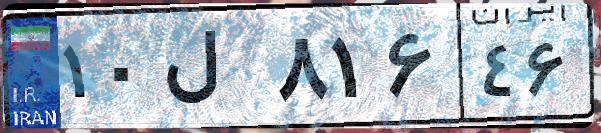0: (110, 28, 158, 98)
1: (330, 28, 385, 110), (57, 26, 110, 100)
4: (475, 38, 525, 113)
6: (385, 28, 445, 110), (525, 38, 570, 115)
8: (270, 28, 330, 110)
ل: (158, 20, 270, 120)
